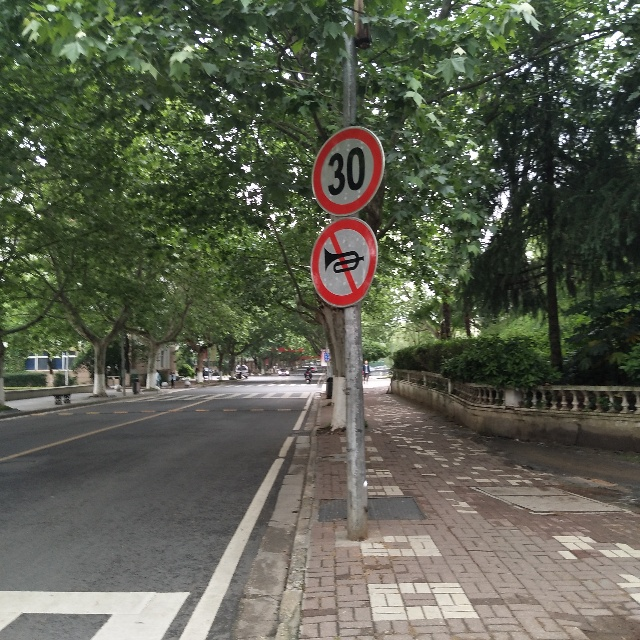nohonk: (310, 218, 379, 309)
